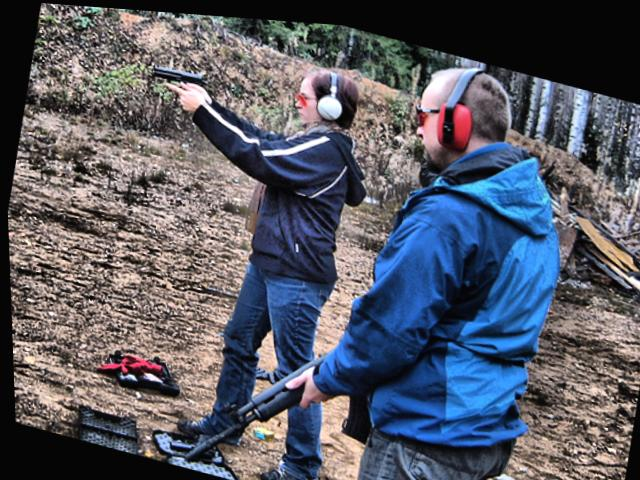pistol: (150, 58, 212, 91)
